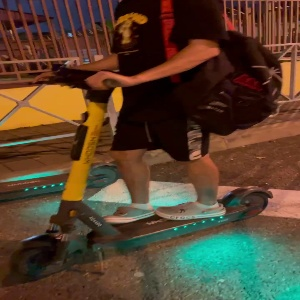human on a scooter: (6, 1, 285, 282)
